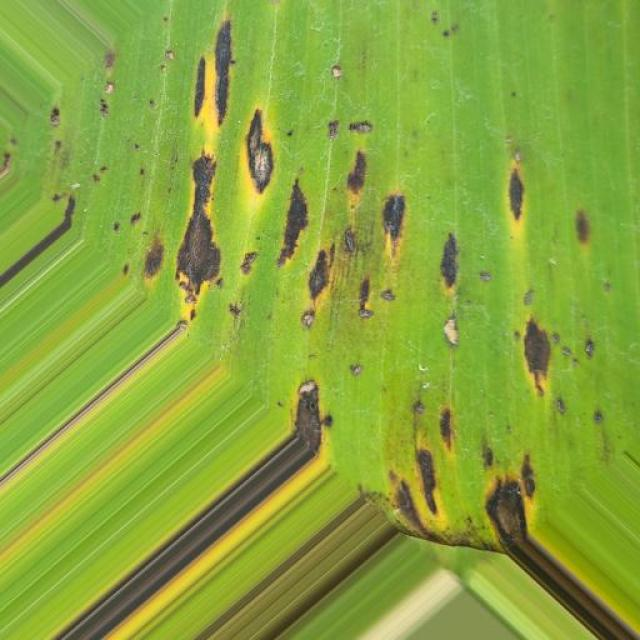Early_rust: (20, 19, 640, 566)
